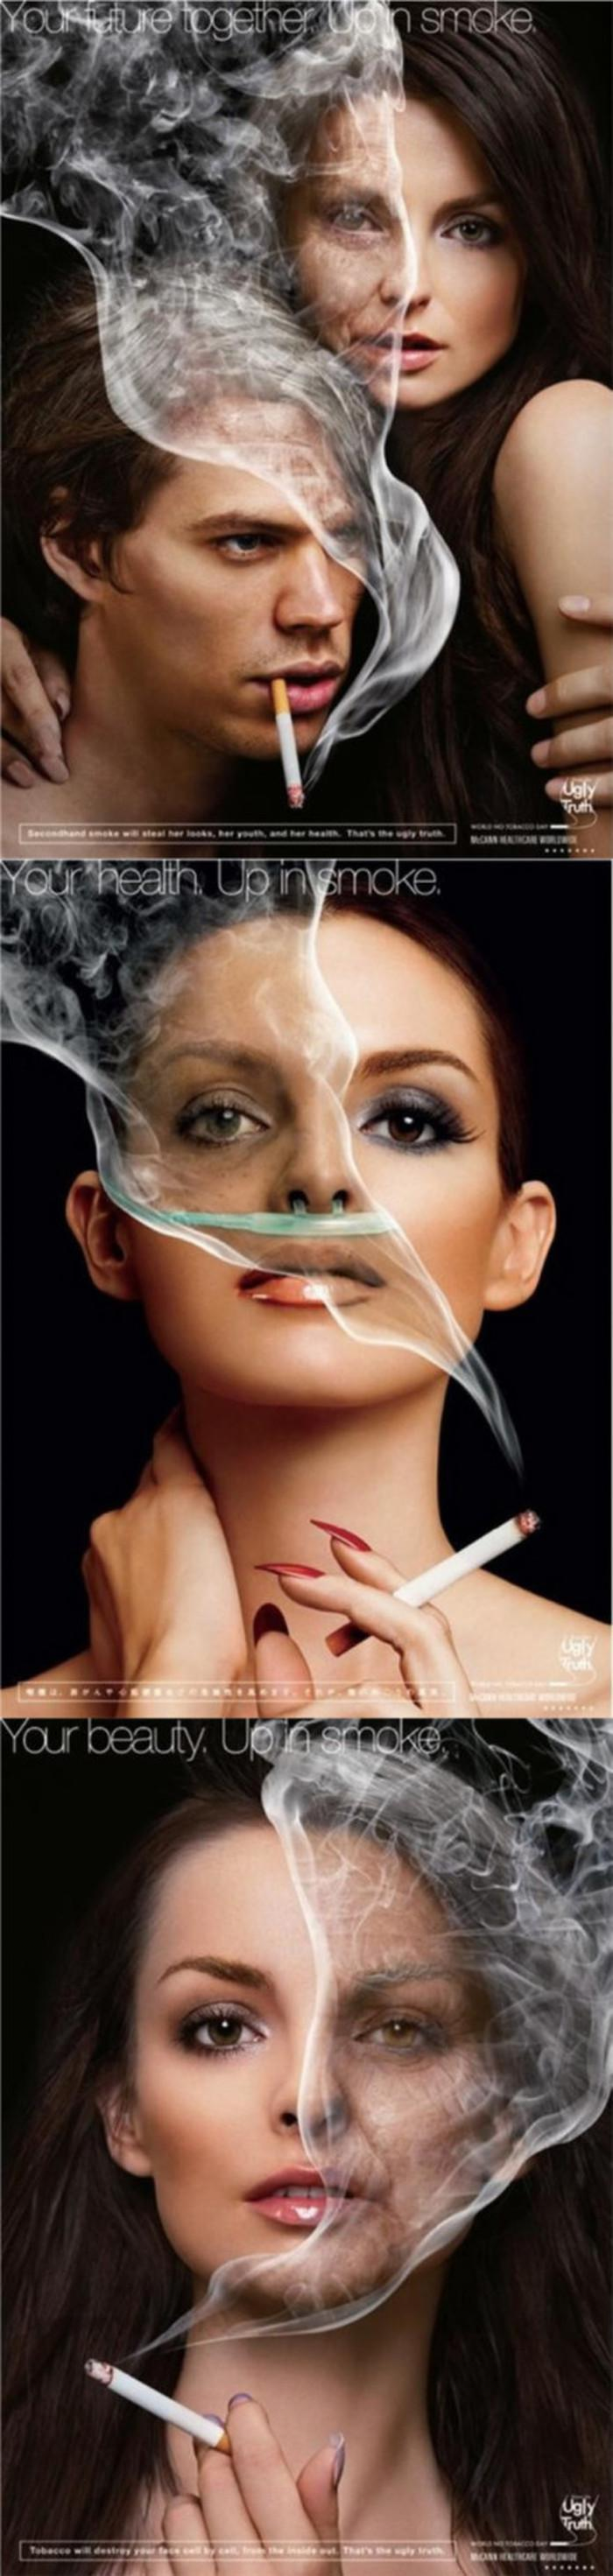smoking: (299, 1475, 542, 1699), (46, 2320, 273, 2512), (265, 660, 391, 831)
